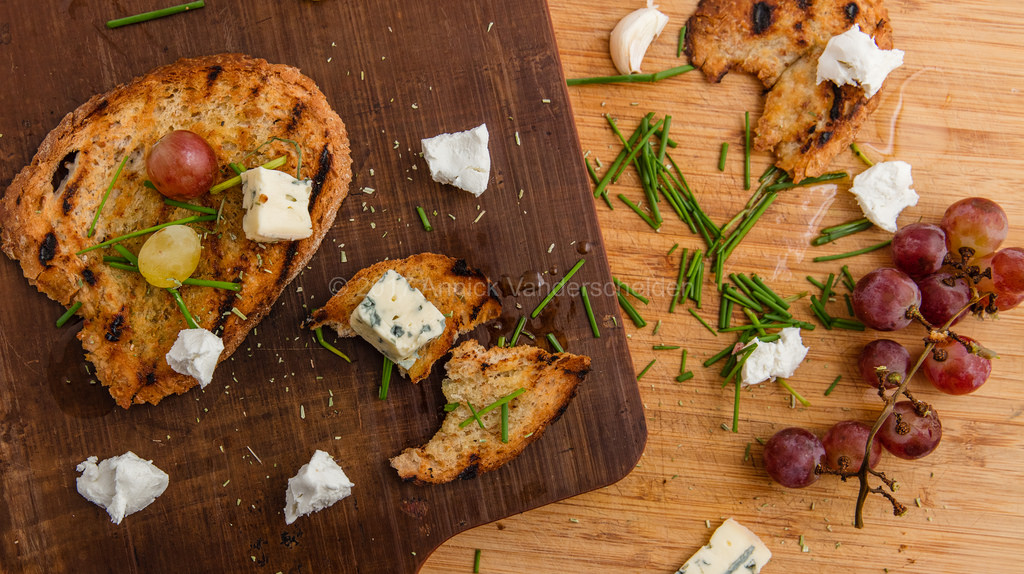slice of bread: (45, 82, 311, 382)
